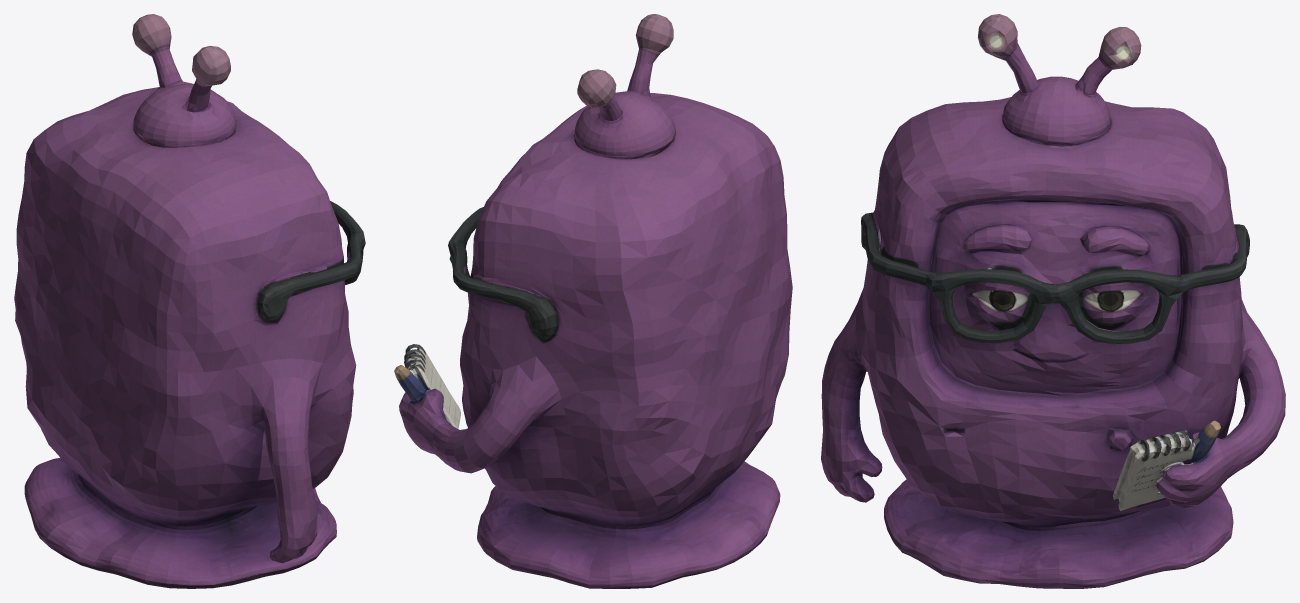
The model's file is harry.glb.
The picture shows the model from 3 angles, left to right: view 1: azimuth 30°, elevation 25°; view 2: azimuth 150°, elevation 25°; view 3: azimuth 270°, elevation 25°; orthographic projection. The views are drawn at different scales.
Parts seen in each view (by area): view 1: tripo_node_e79e6a02-b36c-4785-b40d-db2a273a1fd6; view 2: tripo_node_e79e6a02-b36c-4785-b40d-db2a273a1fd6; view 3: tripo_node_e79e6a02-b36c-4785-b40d-db2a273a1fd6.
Part boxes in pixels (bbox=[...]): tripo_node_e79e6a02-b36c-4785-b40d-db2a273a1fd6: bbox=[14, 14, 365, 588]; tripo_node_e79e6a02-b36c-4785-b40d-db2a273a1fd6: bbox=[394, 14, 792, 588]; tripo_node_e79e6a02-b36c-4785-b40d-db2a273a1fd6: bbox=[821, 14, 1285, 588].
Bounding box in the file's own units: 0.658 × 0.9992 × 0.8166.
1 material, 1 textured.
